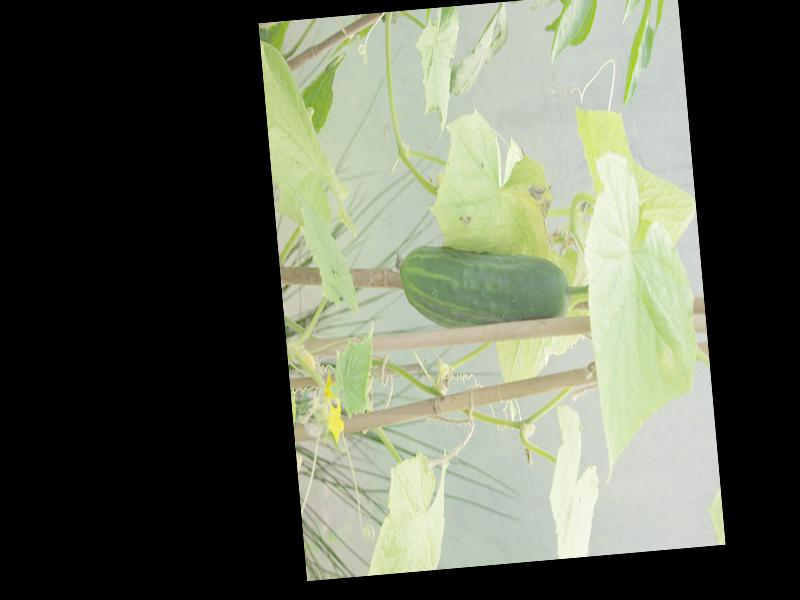Cucumber: (394, 232, 571, 333)
